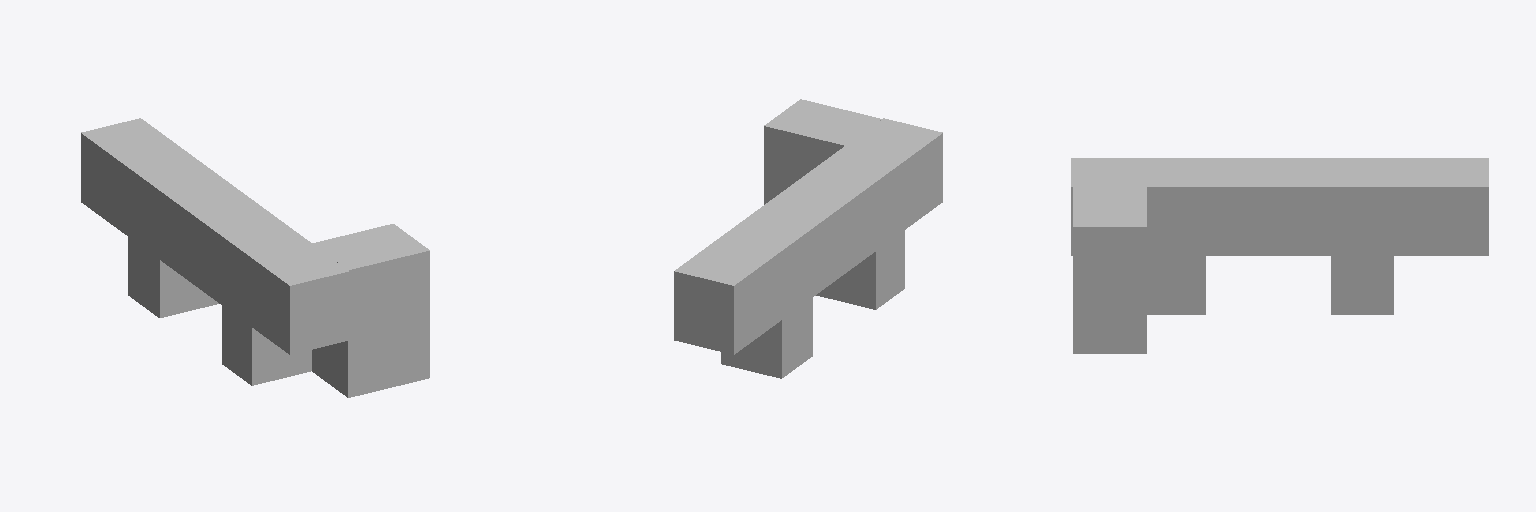
The model's file is cocinaintegralarriba2.obj.
3 renders of one model, left to right at view 1: azimuth 30°, elevation 25°; view 2: azimuth 150°, elevation 25°; view 3: azimuth 270°, elevation 25°, orthographic.
Visible parts, largest first — view 1: fridge1:fridge1:fridge1:pCube3; view 2: fridge1:fridge1:fridge1:pCube3; view 3: fridge1:fridge1:fridge1:pCube3.
Boxes of the visible parts, x1,y1,x2,y2 form: fridge1:fridge1:fridge1:pCube3: [81, 118, 429, 397]; fridge1:fridge1:fridge1:pCube3: [674, 99, 942, 378]; fridge1:fridge1:fridge1:pCube3: [1071, 158, 1488, 353].
Size of the model in its own units: 1.17 by 1.01 by 3.01.